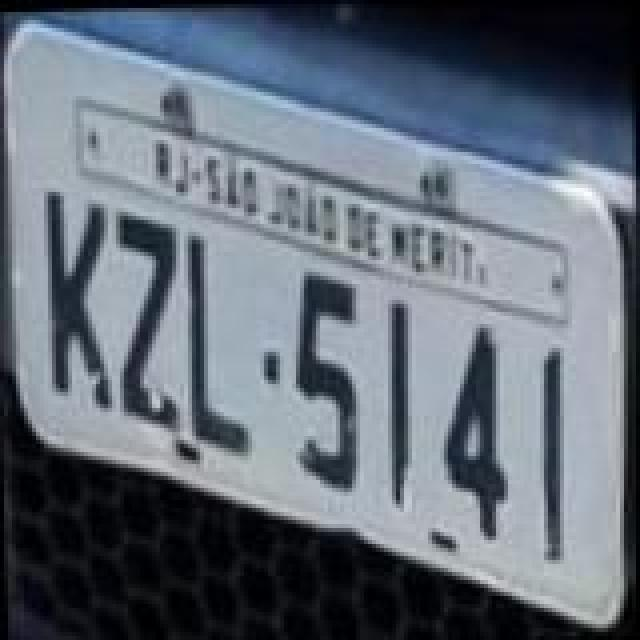1: (534, 340, 574, 564), (380, 292, 420, 508)
4: (432, 314, 516, 542)
5: (288, 262, 368, 494)
K: (36, 180, 120, 412)
L: (176, 228, 260, 464)
Z: (108, 204, 192, 432)
